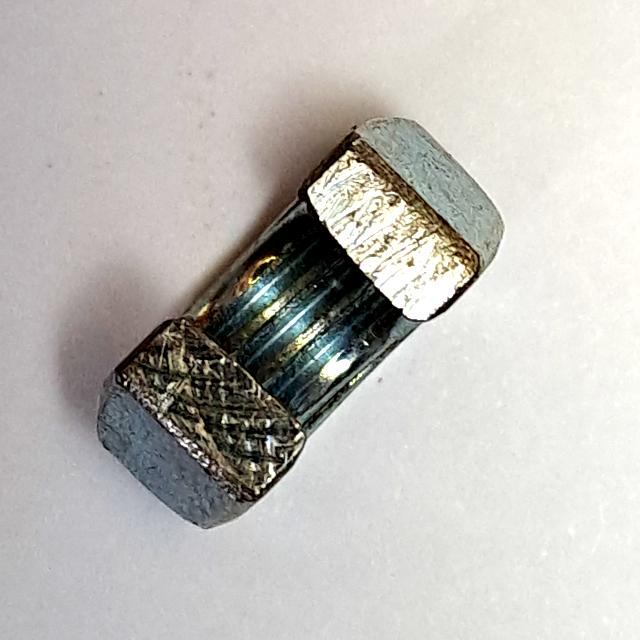Side-Fracture: (81, 100, 517, 542)
